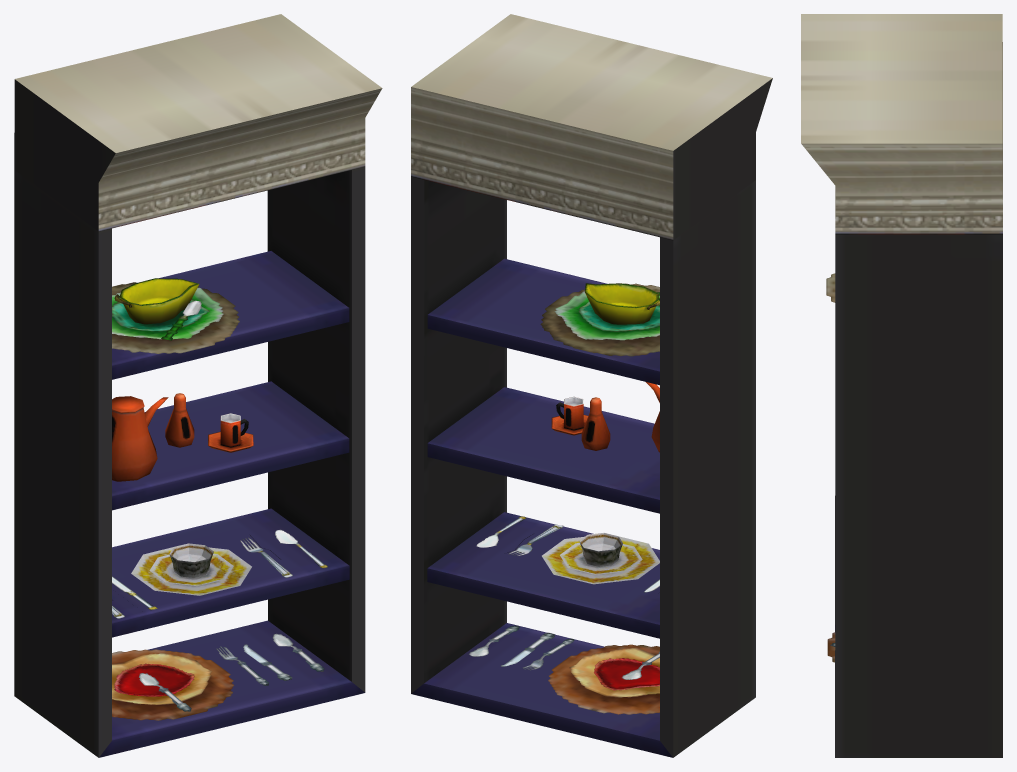
Rendered from furni_0201126.FBX.
The picture shows the model from 3 angles, left to right: view 1: azimuth 30°, elevation 25°; view 2: azimuth 150°, elevation 25°; view 3: azimuth 270°, elevation 25°; orthographic projection.
Parts seen in each view (by area): view 1: furni_0201126; view 2: furni_0201126; view 3: furni_0201126.
Part boxes in pixels (left/top/right/bottom): furni_0201126: left=14, top=14, right=382, bottom=757; furni_0201126: left=411, top=14, right=772, bottom=757; furni_0201126: left=801, top=14, right=1002, bottom=757.
Bounding box in the file's own units: 81.4 × 180 × 53.62.
Materials: 1 (1 with a texture image).
